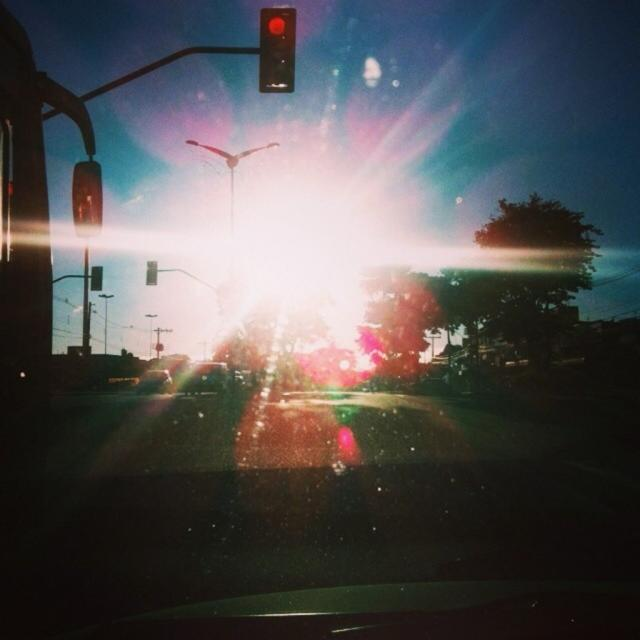traffic light: (259, 4, 294, 93)
